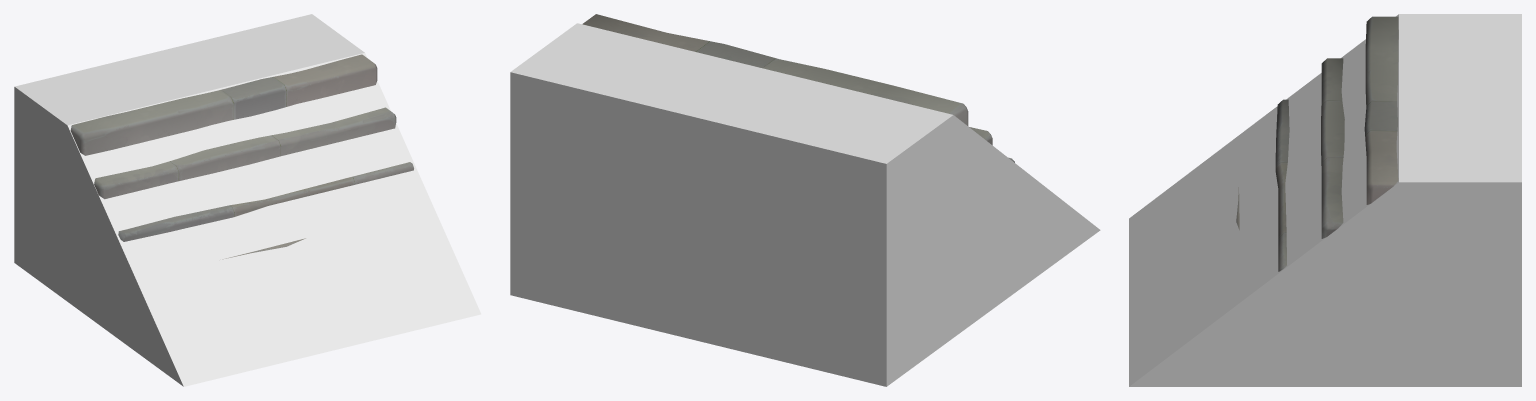
The model's file is Stairs_Entrance_1.fbx.
3 views of the same model, side by side, from view 1: azimuth 30°, elevation 25°; view 2: azimuth 150°, elevation 25°; view 3: azimuth 270°, elevation 25° (orthographic). The views are drawn at different scales.
Parts seen in each view (by area): view 1: Stairs_Entrance_1_COL0, Stairs_Entrance_1_LOD0; view 2: Stairs_Entrance_1_COL0, Stairs_Entrance_1_LOD0; view 3: Stairs_Entrance_1_COL0, Stairs_Entrance_1_LOD0.
Part boxes in pixels (left/top/right/bottom): Stairs_Entrance_1_COL0: left=14, top=14, right=480, bottom=386; Stairs_Entrance_1_LOD0: left=70, top=54, right=413, bottom=259; Stairs_Entrance_1_COL0: left=510, top=23, right=1100, bottom=386; Stairs_Entrance_1_LOD0: left=582, top=14, right=1014, bottom=162; Stairs_Entrance_1_COL0: left=1129, top=14, right=1521, bottom=386; Stairs_Entrance_1_LOD0: left=1236, top=16, right=1398, bottom=271.
Size of what is drawn, in the model's own units: 183 by 104 by 181.
